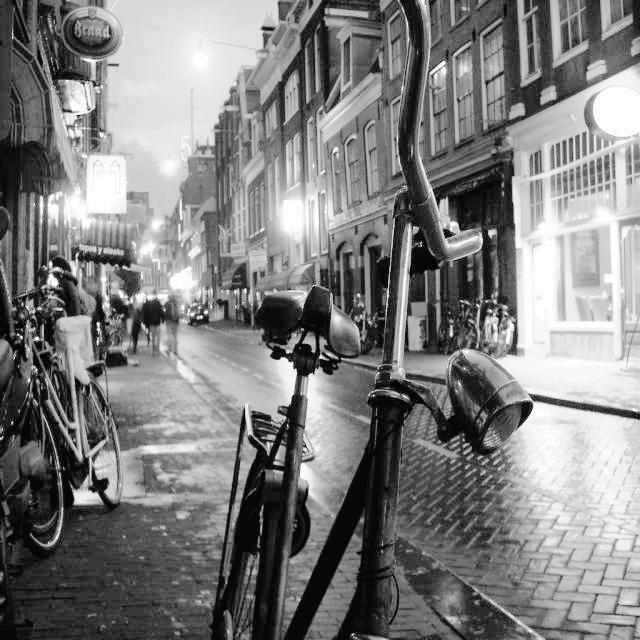Bicycle: (231, 131, 538, 640), (0, 278, 142, 572)
